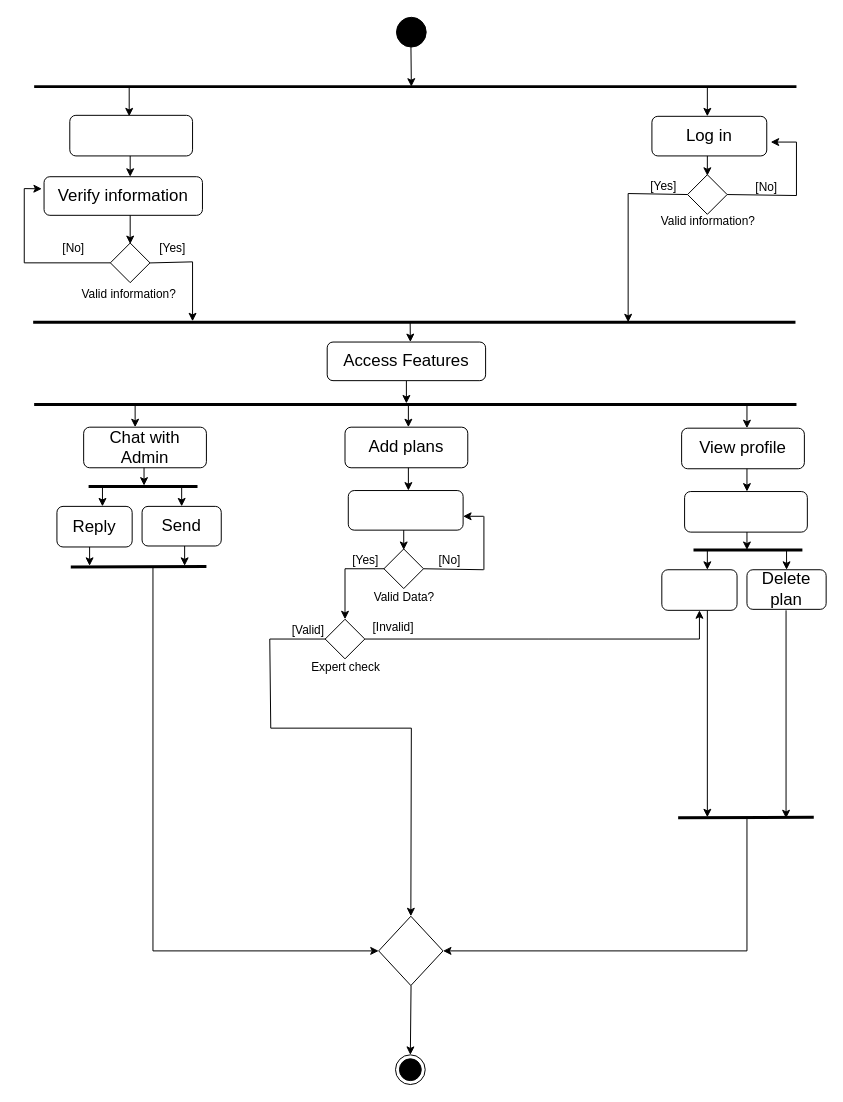
The diagram is 843 pixels wide and 1102 high, and some of its shapes have lost their labels. Here are the shapes that lost their labels. From the top down, the centre of each, then its label:
At pixel 131 135: "Sign Up".
At pixel 405 510: "Add data".
At pixel 745 511: "View my plans".
At pixel 699 589: "Edit plan".
